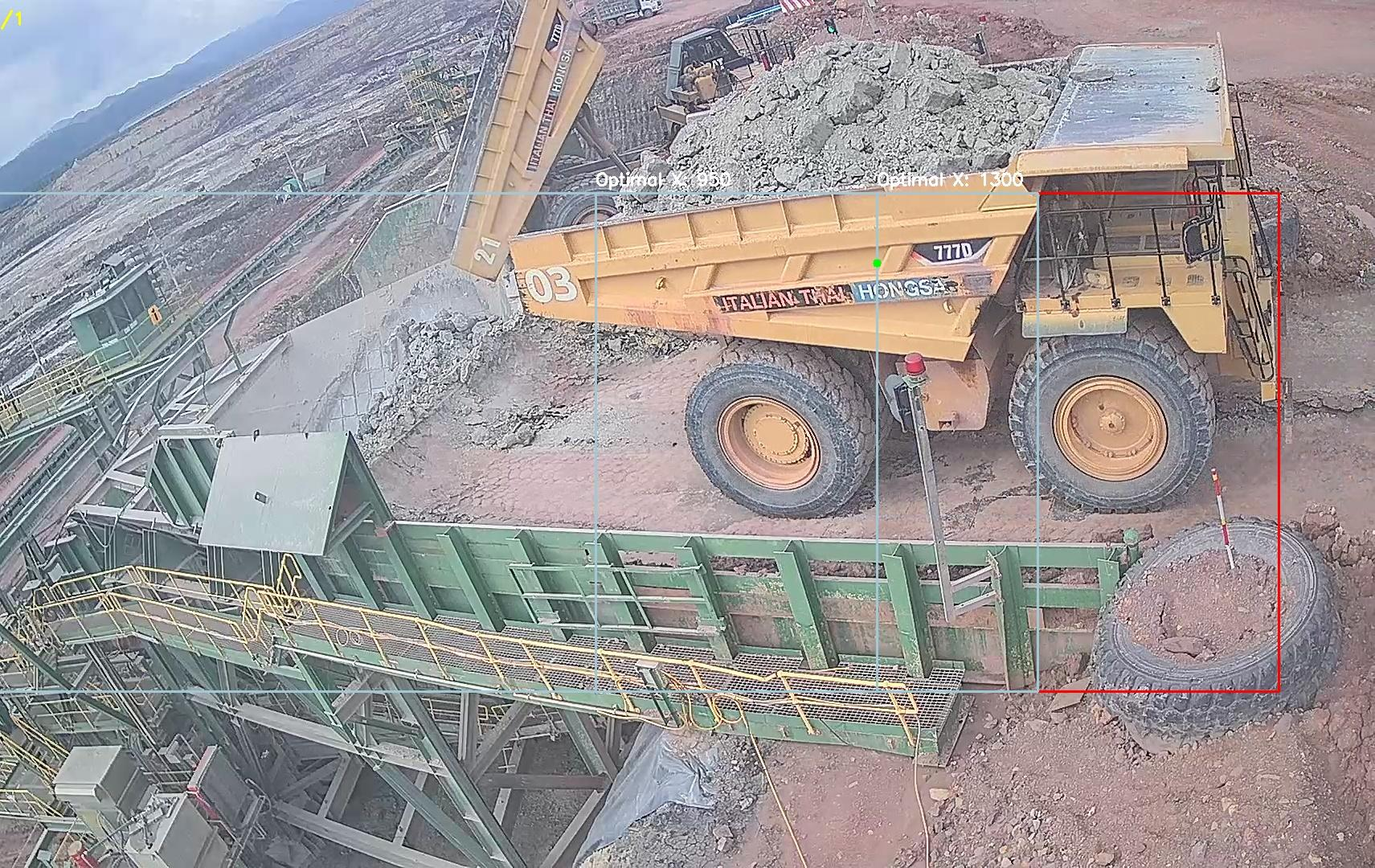company: (699, 265, 963, 318)
full_load: (754, 29, 1025, 208)
mining_truck: (501, 13, 1300, 514)
tail_number: (517, 253, 591, 321)
truck_size: (906, 228, 1000, 268)
